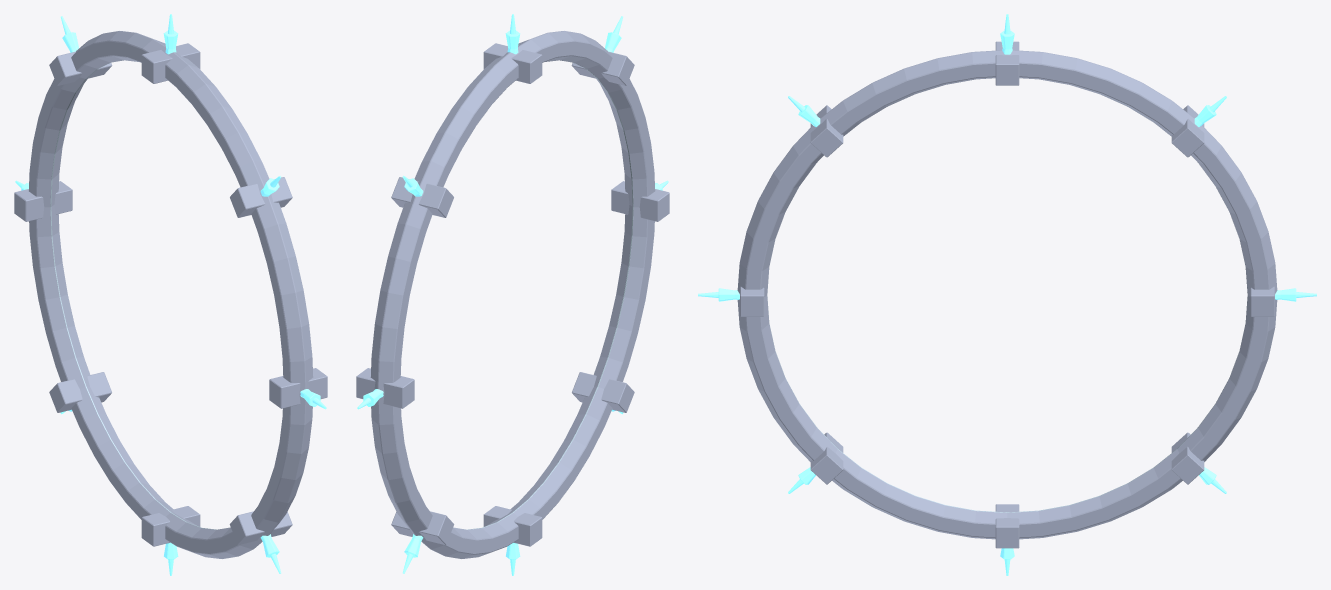
The model's file is SM_OmegaArch.fbx.
3 views of the same model, side by side, from view 1: azimuth 30°, elevation 25°; view 2: azimuth 150°, elevation 25°; view 3: azimuth 270°, elevation 25° (orthographic).
Parts seen in each view (by area): view 1: SM_OmegaArch; view 2: SM_OmegaArch; view 3: SM_OmegaArch.
Boxes of the visible parts, x1,y1,x2,y2 form: SM_OmegaArch: [14, 14, 327, 575]; SM_OmegaArch: [356, 14, 669, 575]; SM_OmegaArch: [698, 14, 1316, 575].
Bounding box in the file's own units: 320 × 3638 × 3638.
